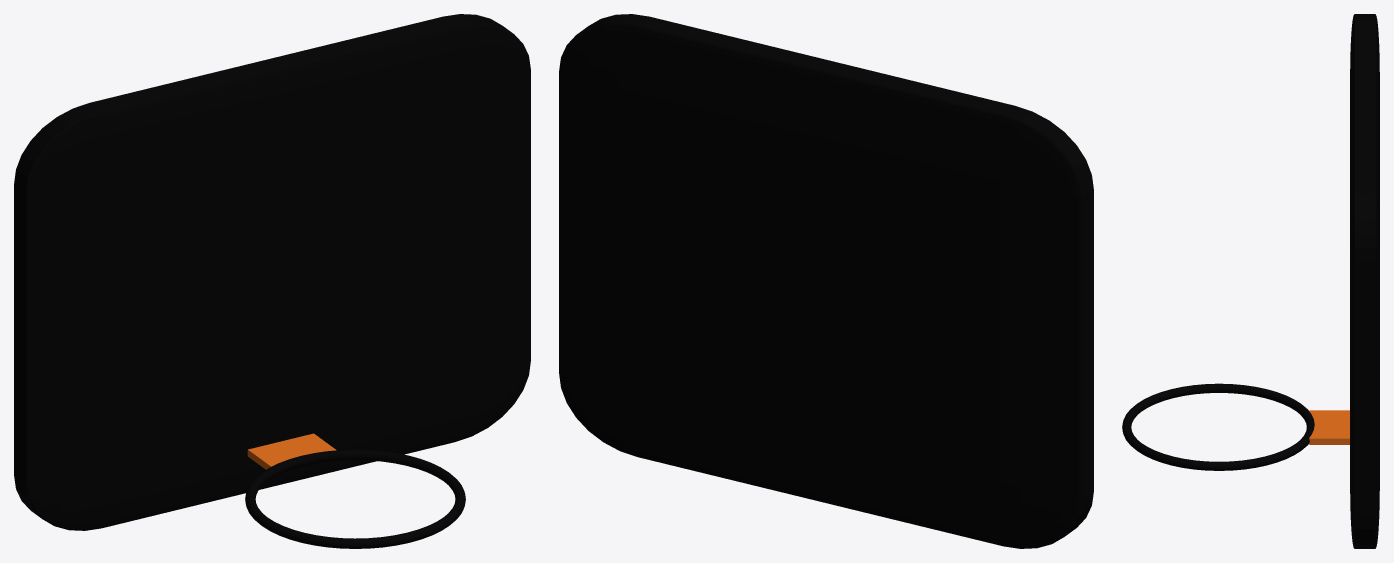
The model's file is Backboard (1).fbx.
3 renders of one model, left to right at view 1: azimuth 30°, elevation 25°; view 2: azimuth 150°, elevation 25°; view 3: azimuth 270°, elevation 25°, orthographic. The views are drawn at different scales.
Parts seen in each view (by area): view 1: Backboard; view 2: Backboard; view 3: Backboard.
Boxes of the visible parts, box(x1,y1,x2,y2) form: Backboard: box(14, 14, 530, 548); Backboard: box(559, 14, 1093, 548); Backboard: box(1122, 14, 1379, 548).
Size of the model in its own units: 645 by 509 by 325.
